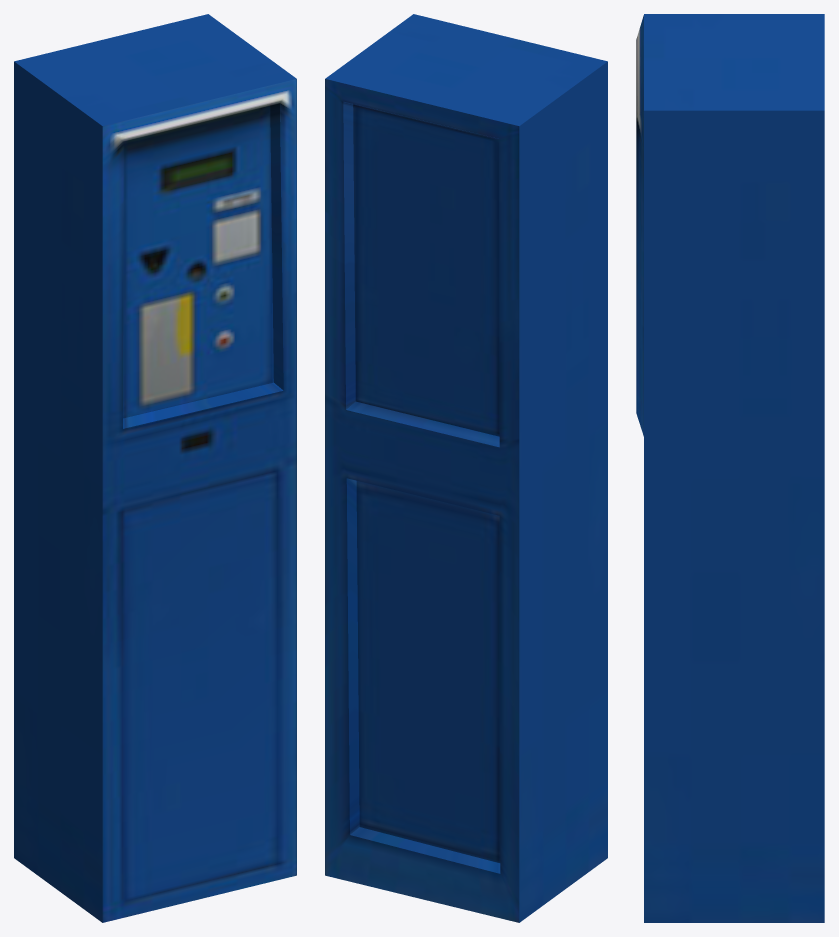
File: parking_meter_01.FBX
3 views of the same model, side by side, from view 1: azimuth 30°, elevation 25°; view 2: azimuth 150°, elevation 25°; view 3: azimuth 270°, elevation 25° (orthographic).
Visible parts, largest first — view 1: parking_meter_01; view 2: parking_meter_01; view 3: parking_meter_01.
Part boxes in pixels (x1=…): parking_meter_01: x1=14, y1=14, x2=296, y2=922; parking_meter_01: x1=325, y1=14, x2=607, y2=922; parking_meter_01: x1=636, y1=14, x2=824, y2=922.
Size of the model in its own units: 10.04 by 39.35 by 8.27.
Materials: 1 (1 with a texture image).
